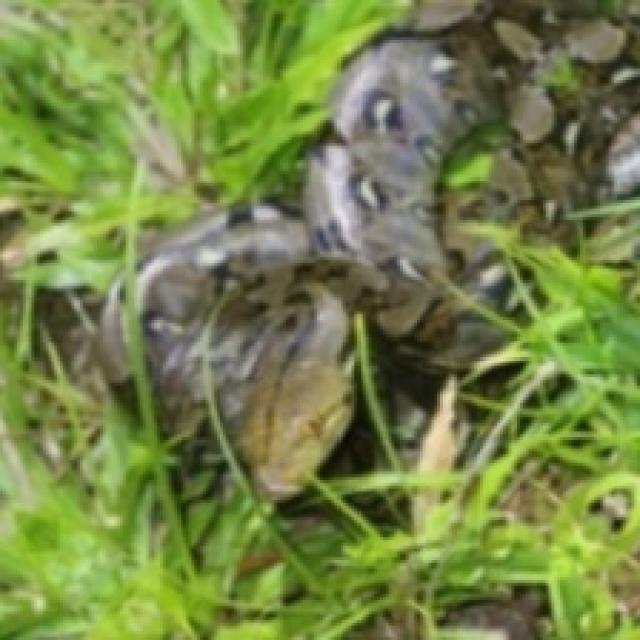reticulated python: (97, 0, 637, 531)
